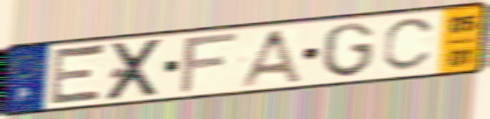A: (235, 27, 306, 89)
C: (380, 15, 439, 74)
E: (46, 42, 109, 108)
F: (176, 30, 242, 96)
G: (321, 20, 376, 79)
X: (102, 36, 168, 103)
